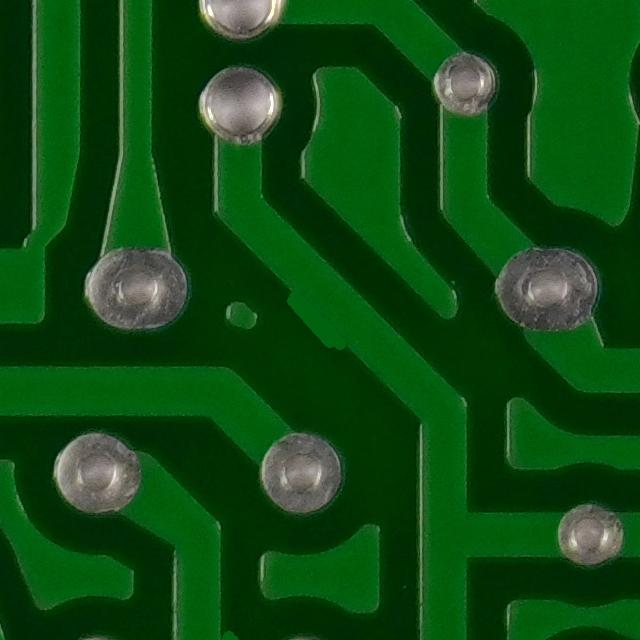spur: (269, 275, 371, 365)
